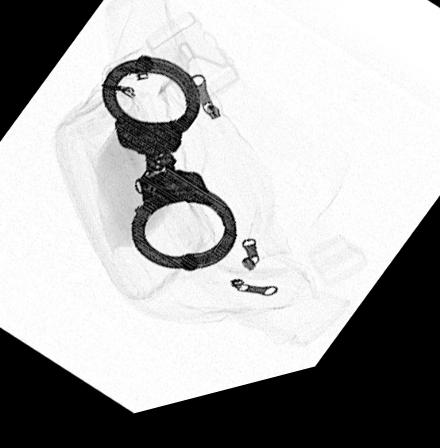HandCuffs: (97, 59, 237, 281)
